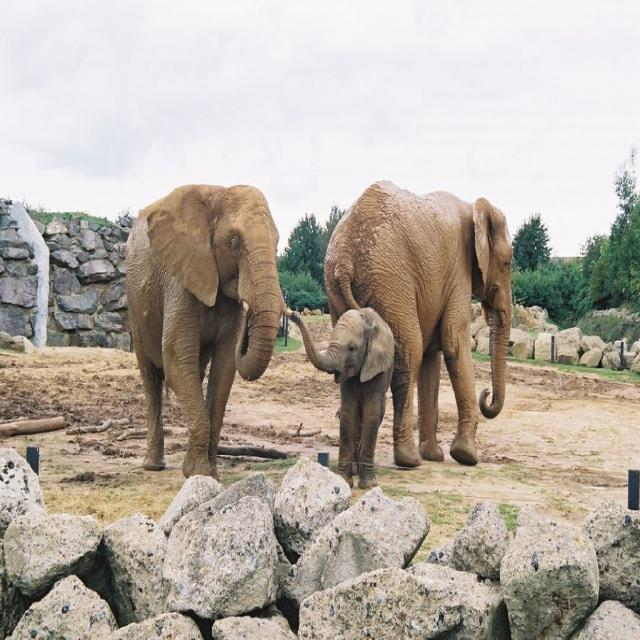elephant: (320, 178, 509, 476), (116, 178, 291, 486), (278, 293, 395, 486)
